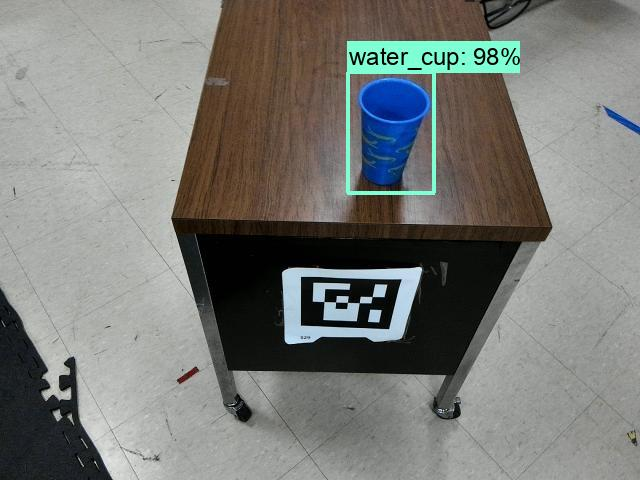water_cup: (348, 75, 438, 193)
